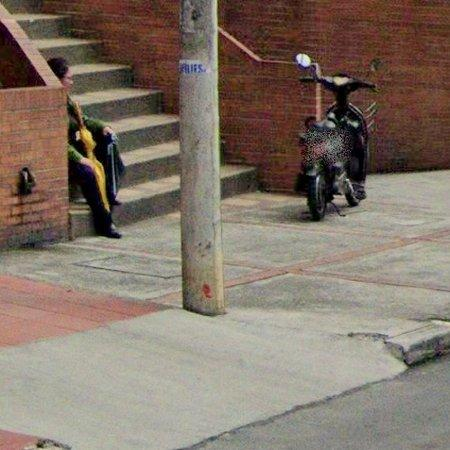stairs: (6, 0, 179, 225), (222, 166, 256, 196), (70, 198, 93, 238)
